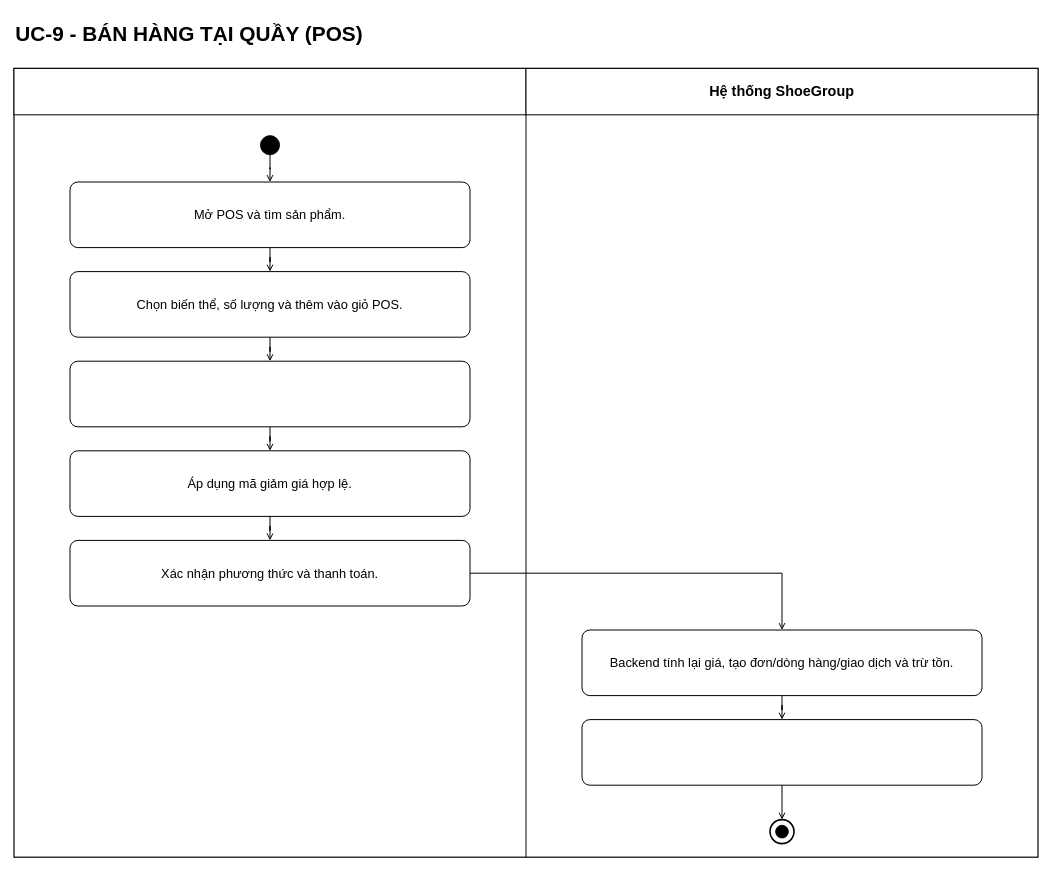
This 1053x872 diagram has some shape labels left out. Here are the shapes that lost their labels. From the top down, the box of each, then its label:
(13, 68, 526, 115): Quản trị viên
(69, 360, 470, 427): Chọn khách hàng hoặc nhập khách lẻ; hệ thống lưu khách lẻ khi tạo đơn.
(581, 719, 982, 785): Giao diện mở hóa đơn để xem hoặc in.
